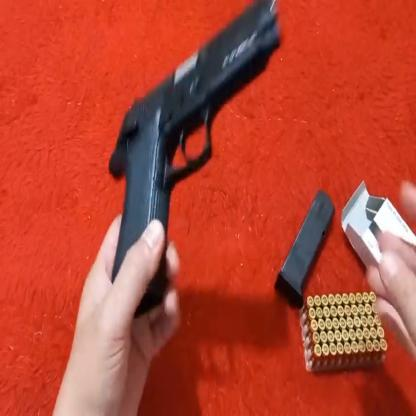handgun: (104, 0, 286, 294)
